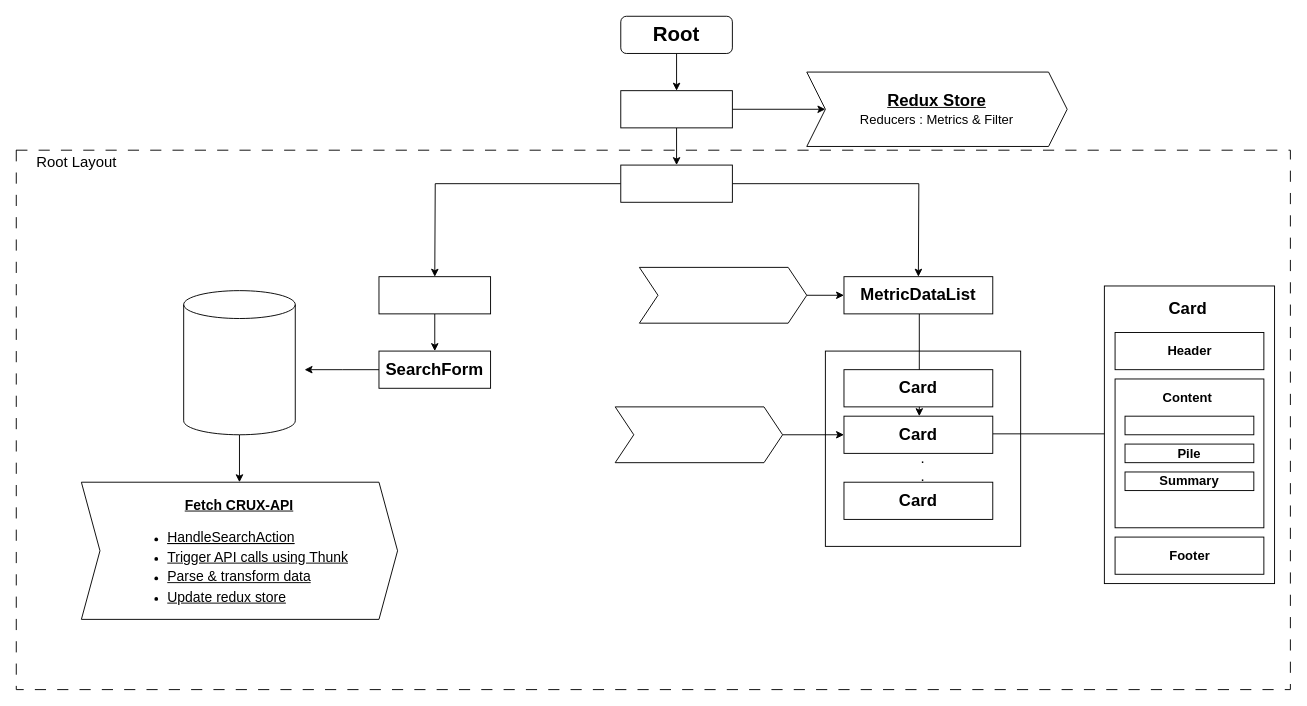
Image size: 1307x706. Some labels were removed from this diagram. The box of each missing label's shape, as (x1, y1, x2, y2) in pixels:
App: (620, 90, 732, 128)
Bar: (1124, 415, 1254, 435)
Filter Reducer State : Filters: (614, 406, 783, 463)
Home: (620, 164, 732, 202)
InputTextArea Button: (183, 290, 295, 435)
Metrics Reducer State : Metric Data: (638, 266, 807, 323)
SearchBox: (378, 276, 491, 314)
